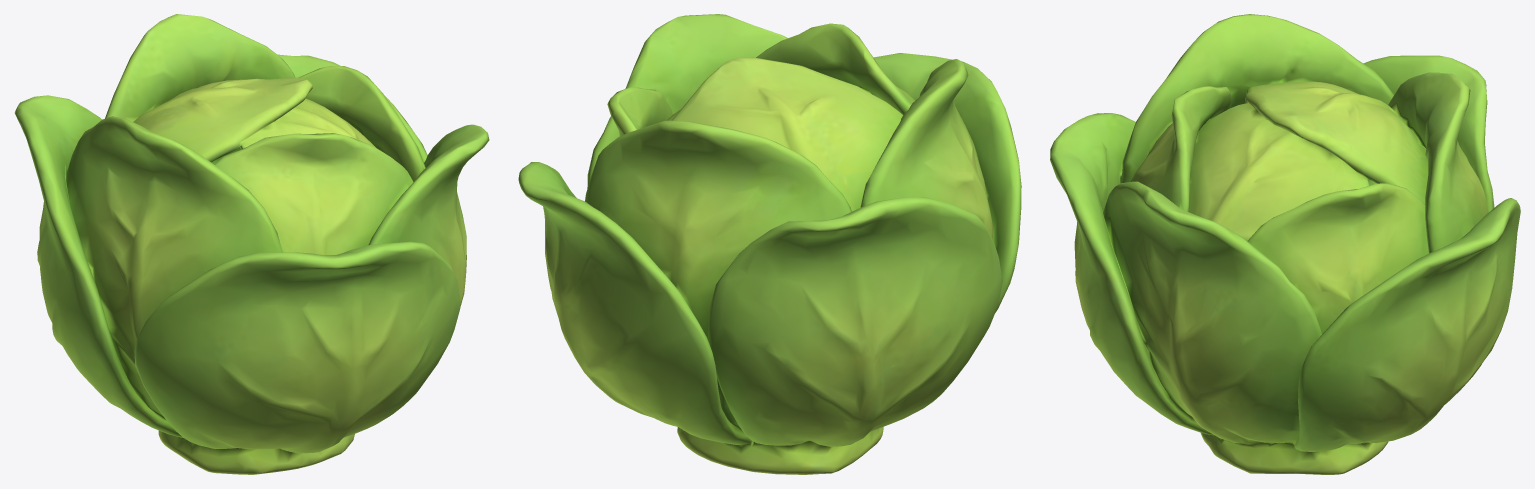
The model's file is cabbage.glb.
3 views of the same model, side by side, from view 1: azimuth 30°, elevation 25°; view 2: azimuth 150°, elevation 25°; view 3: azimuth 270°, elevation 25° (orthographic). The views are drawn at different scales.
Parts seen in each view (by area): view 1: tripo_node_037c8b53-38f4-4d28-b2e4-917cd733979b; view 2: tripo_node_037c8b53-38f4-4d28-b2e4-917cd733979b; view 3: tripo_node_037c8b53-38f4-4d28-b2e4-917cd733979b.
Part boxes in pixels (<box>): tripo_node_037c8b53-38f4-4d28-b2e4-917cd733979b: <box>14,14,489,474</box>; tripo_node_037c8b53-38f4-4d28-b2e4-917cd733979b: <box>518,14,1021,474</box>; tripo_node_037c8b53-38f4-4d28-b2e4-917cd733979b: <box>1050,14,1520,474</box>.
Bounding box in the file's own units: 0.9281 × 0.8218 × 0.98.
1 material, 1 textured.
